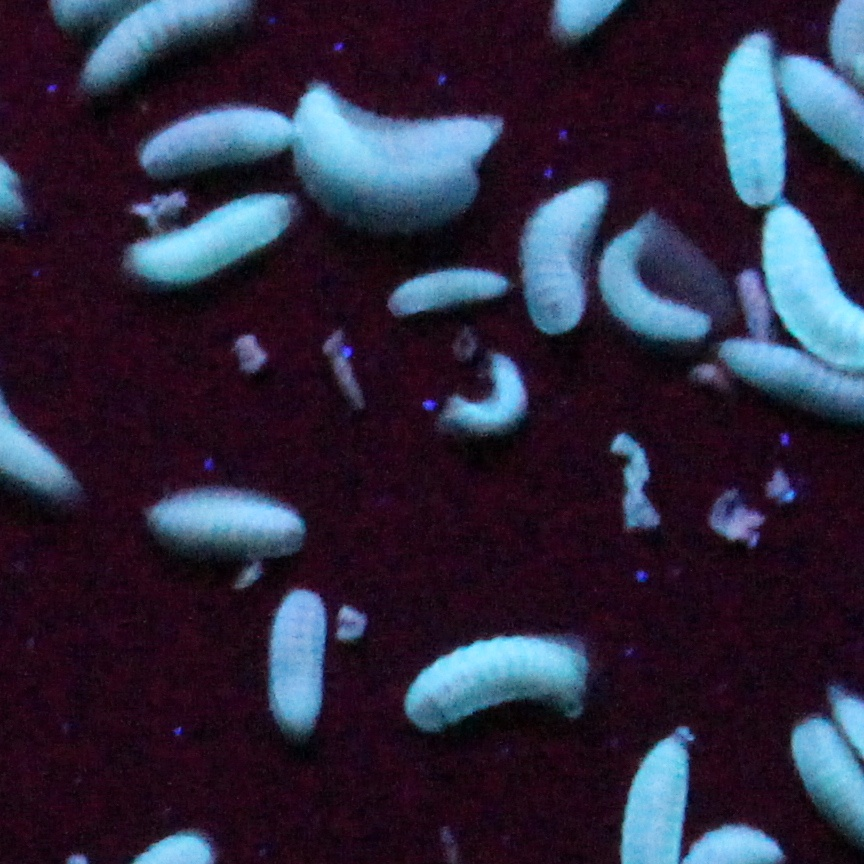larve: (305, 77, 501, 226), (404, 630, 598, 724), (711, 23, 795, 213), (601, 223, 708, 358), (531, 164, 604, 350), (124, 210, 291, 284), (130, 103, 295, 177), (151, 497, 304, 557), (453, 352, 524, 439), (278, 584, 318, 724), (392, 274, 505, 319)
